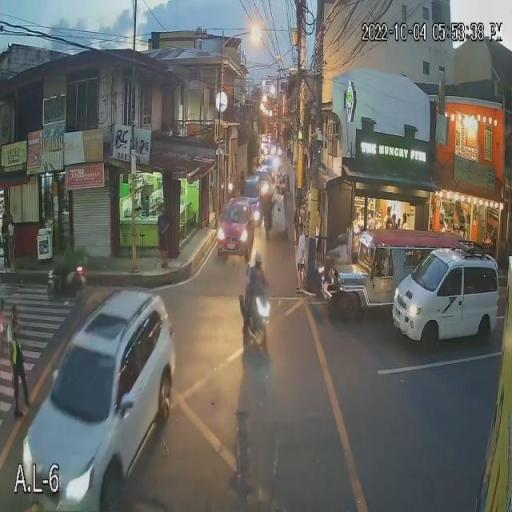helmet: (251, 252, 268, 273)
motorcycle: (238, 282, 272, 354), (46, 265, 87, 303)
rider: (244, 252, 270, 322), (52, 244, 81, 284)
